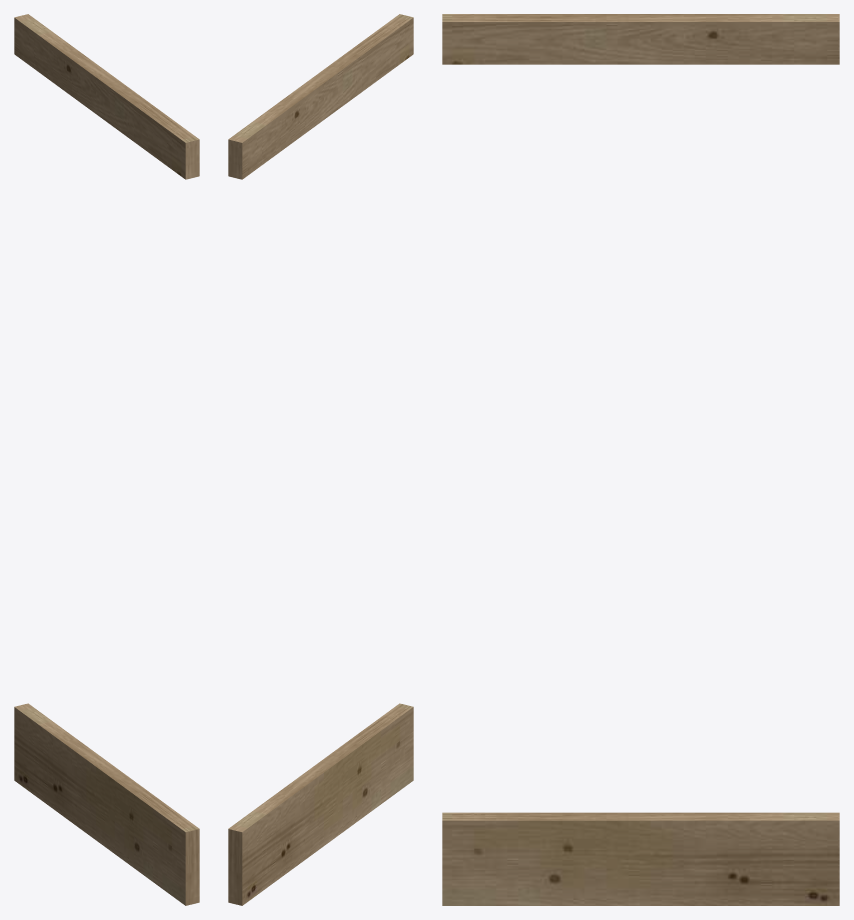
The model's file is Joglo_part_59.fbx.
The picture shows the model from 3 angles, left to right: view 1: azimuth 30°, elevation 25°; view 2: azimuth 150°, elevation 25°; view 3: azimuth 270°, elevation 25°; orthographic projection. The views are drawn at different scales.
Visible parts, largest first — view 1: Mesh150_Wood___Pine_Grained_Horizontal_0.001; view 2: Mesh150_Wood___Pine_Grained_Horizontal_0.001; view 3: Mesh150_Wood___Pine_Grained_Horizontal_0.001.
Boxes of the visible parts, x1,y1,x2,y2 form: Mesh150_Wood___Pine_Grained_Horizontal_0.001: (14, 14, 199, 905); Mesh150_Wood___Pine_Grained_Horizontal_0.001: (228, 14, 413, 905); Mesh150_Wood___Pine_Grained_Horizontal_0.001: (442, 14, 839, 905).
Size of the model in its own units: 1.57 by 81.57 by 33.23.
